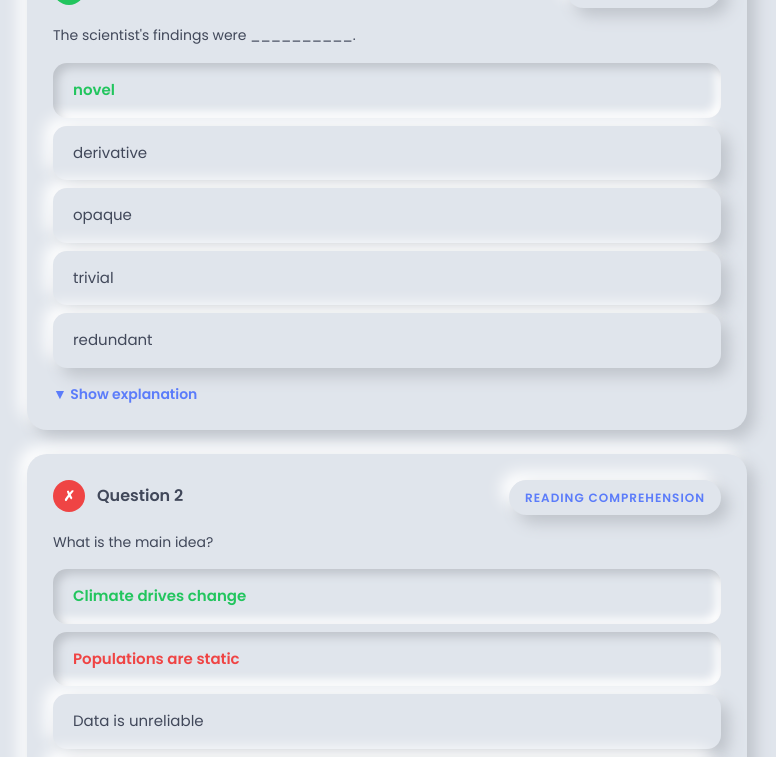
Results page smoke › renders score summary and answer review from session storage
This screenshot has width=776, height=757.
(page scrolled)
Click the button "▼ Show explanation". click: (125, 394)
box: [53, 384, 721, 404]
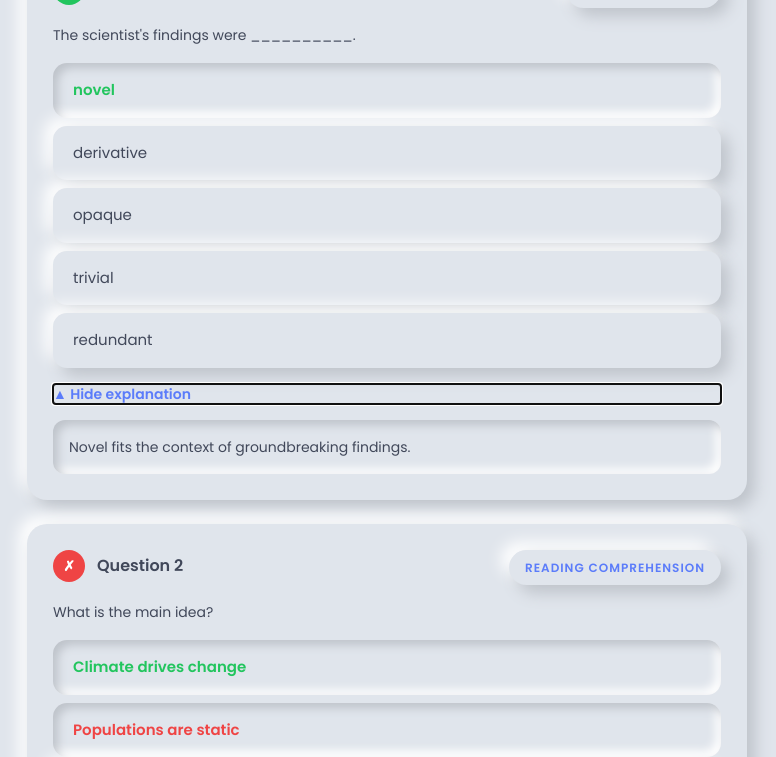
Check: the text "Novel fits the context of groundbreaking findings." is shown, box [53, 420, 721, 474]
